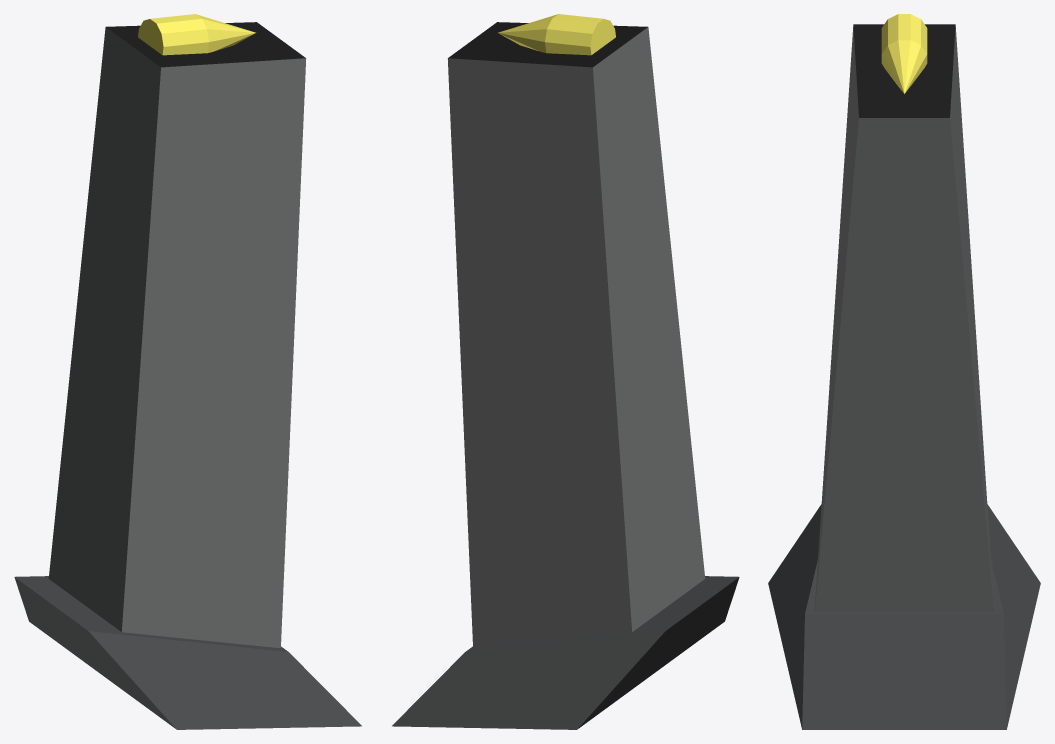
The model's file is SCIFI-PistolClip.fbx.
3 renders of one model, left to right at view 1: azimuth 30°, elevation 25°; view 2: azimuth 150°, elevation 25°; view 3: azimuth 270°, elevation 25°, orthographic. The views are drawn at different scales.
Parts seen in each view (by area): view 1: cuboid_1, cuboid, cone; view 2: cuboid_1, cuboid, cone; view 3: cuboid_1, cuboid, cone.
Part boxes in pixels (x1,y1,x2,y2): cuboid_1: (48,22,306,647); cuboid: (14,576,361,729); cone: (138,14,255,55); cuboid_1: (447,22,705,647); cuboid: (392,576,739,729); cone: (498,14,615,55); cuboid_1: (814,24,994,611); cuboid: (768,504,1040,729); cone: (881,14,927,93).
Bounding box in the file's own units: 7.48 × 19.62 × 7.5.
Materials: 1 (1 with a texture image).
